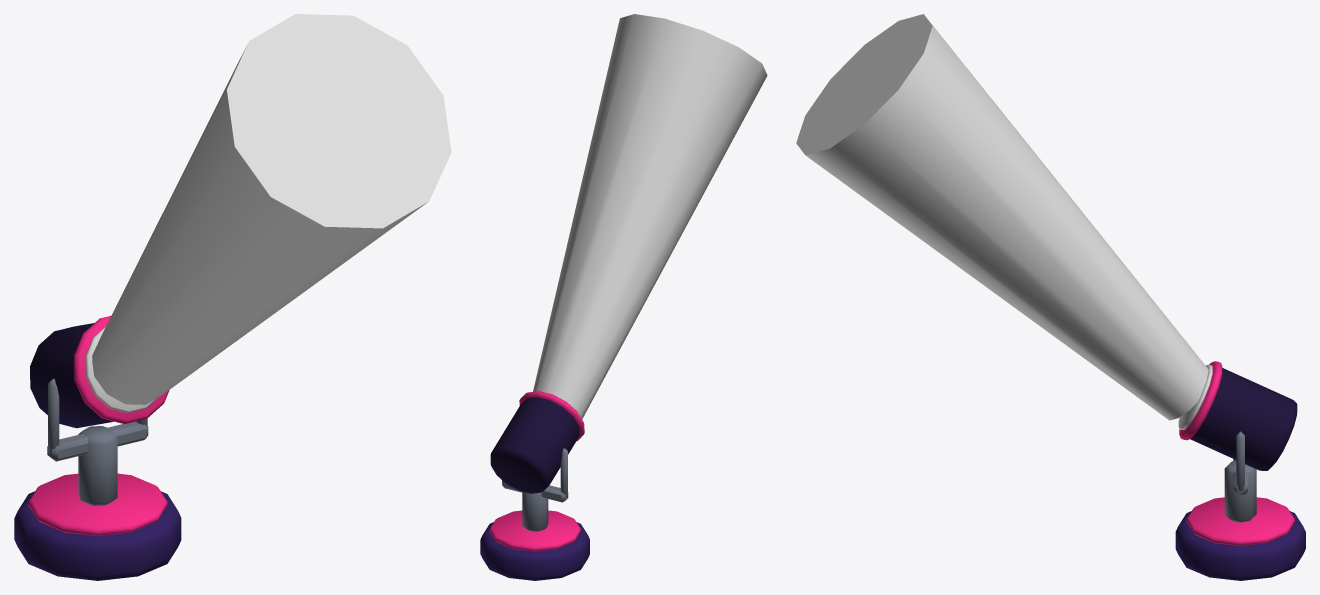
The model's file is W6_Searchlight.fbx.
3 renders of one model, left to right at view 1: azimuth 30°, elevation 25°; view 2: azimuth 150°, elevation 25°; view 3: azimuth 270°, elevation 25°, orthographic. The views are drawn at different scales.
Parts seen in each view (by area): view 1: Beam, Static, Lamp; view 2: Beam, Static, Lamp; view 3: Beam, Static, Lamp.
Part boxes in pixels (x1,y1,x2,y2): Beam: [92, 14, 451, 404]; Static: [14, 378, 181, 580]; Lamp: [30, 316, 169, 428]; Beam: [533, 14, 767, 419]; Static: [480, 448, 589, 580]; Lamp: [490, 391, 584, 493]; Beam: [796, 14, 1208, 420]; Static: [1175, 431, 1305, 580]; Lamp: [1178, 361, 1297, 470].
Size of the model in its own units: 2.6 by 8.09 by 7.04.
